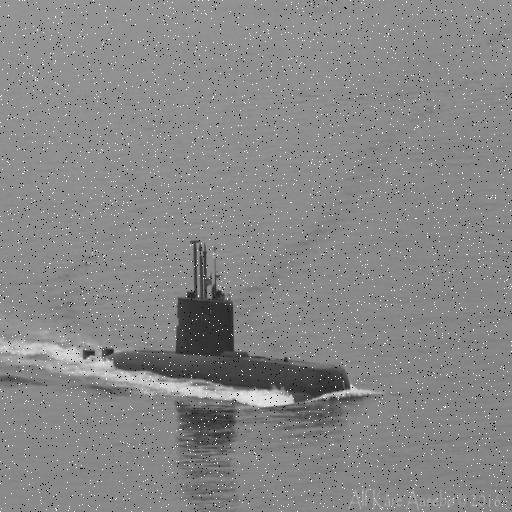submarine: (83, 297, 353, 402)
